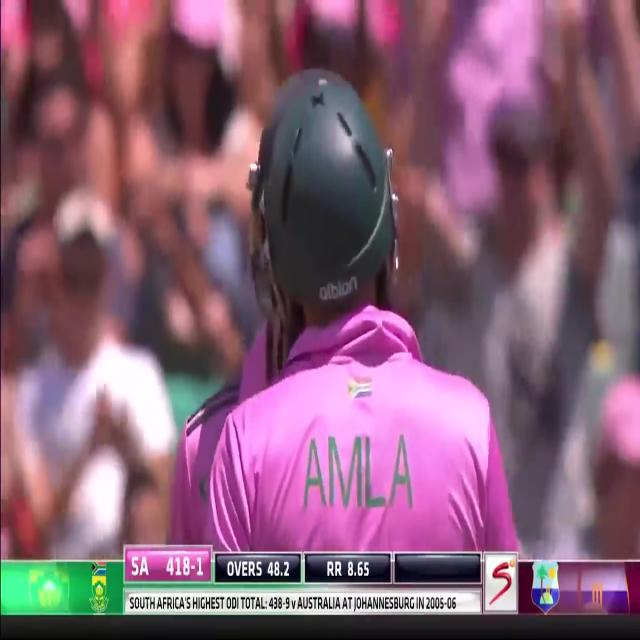Ball: (157, 73, 524, 555)
